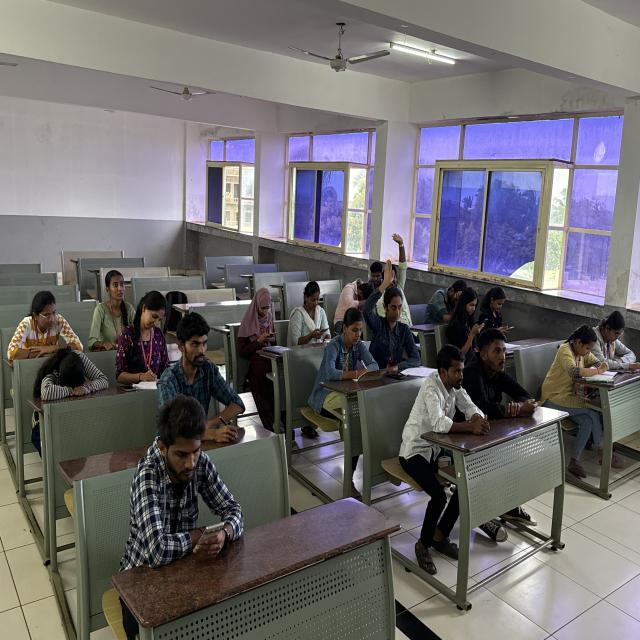Hand Rising: (366, 256, 420, 371), (378, 222, 413, 304)
Reading: (598, 290, 640, 398), (552, 318, 611, 388)
Sleeping: (32, 344, 112, 408)
Using Phone: (129, 398, 244, 579), (288, 280, 334, 346), (237, 286, 278, 358), (449, 286, 488, 341), (480, 284, 516, 340)
Writing: (116, 289, 174, 396), (322, 306, 382, 391)
